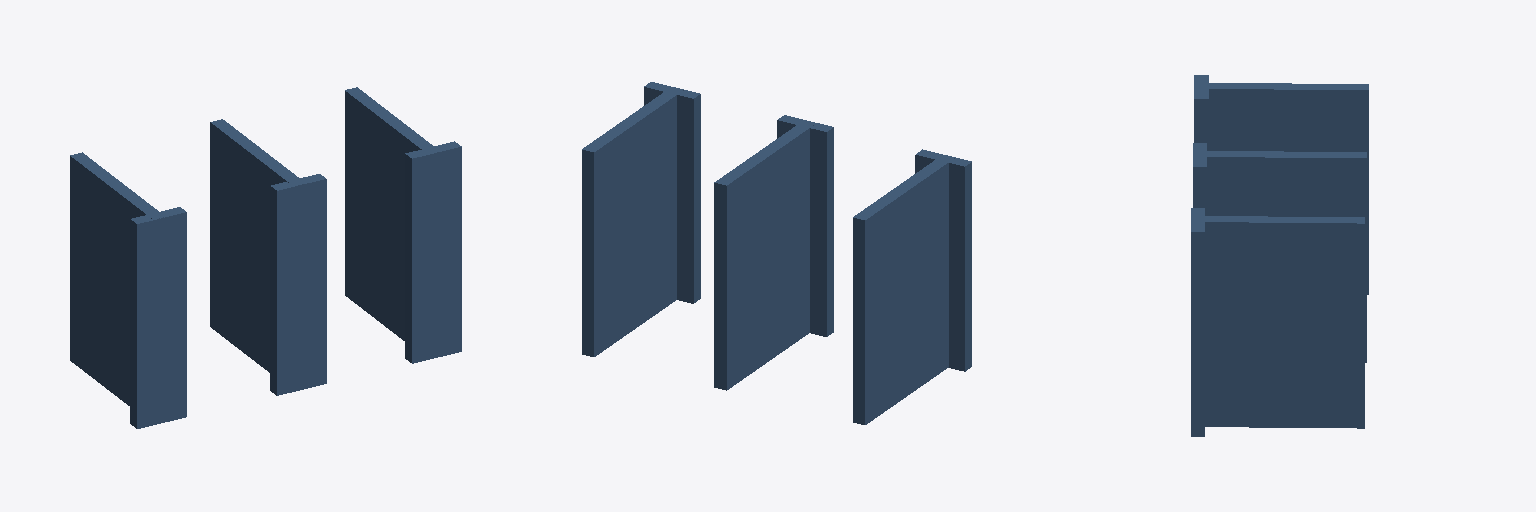
Rendered from cubicals.obj.
3 views of the same model, side by side, from view 1: azimuth 30°, elevation 25°; view 2: azimuth 150°, elevation 25°; view 3: azimuth 270°, elevation 25° (orthographic).
Parts seen in each view (by area): view 1: Box001, Box003, Box002, Box004, Box006, Box005; view 2: Box003, Box001, Box002, Box006, Box005, Box004; view 3: Box002, Box003, Box001, Box006, Box004, Box005.
Boxes of the visible parts, x1=… form: Box001: x1=210, y1=119, x2=306, y2=372; Box003: x1=70, y1=152, x2=165, y2=405; Box002: x1=345, y1=87, x2=440, y2=340; Box004: x1=130, y1=207, x2=186, y2=428; Box006: x1=405, y1=141, x2=461, y2=363; Box005: x1=270, y1=174, x2=326, y2=395; Box003: x1=853, y1=155, x2=954, y2=424; Box001: x1=714, y1=120, x2=815, y2=390; Box002: x1=582, y1=87, x2=683, y2=356; Box006: x1=644, y1=82, x2=700, y2=303; Box005: x1=777, y1=115, x2=833, y2=336; Box004: x1=915, y1=149, x2=971, y2=371; Box002: x1=1191, y1=216, x2=1364, y2=428; Box003: x1=1195, y1=83, x2=1368, y2=294; Box001: x1=1193, y1=151, x2=1366, y2=362; Box006: x1=1191, y1=208, x2=1204, y2=436; Box004: x1=1194, y1=75, x2=1208, y2=150; Box005: x1=1193, y1=143, x2=1206, y2=215.
Size of the model in its own units: 235 by 143 by 112.